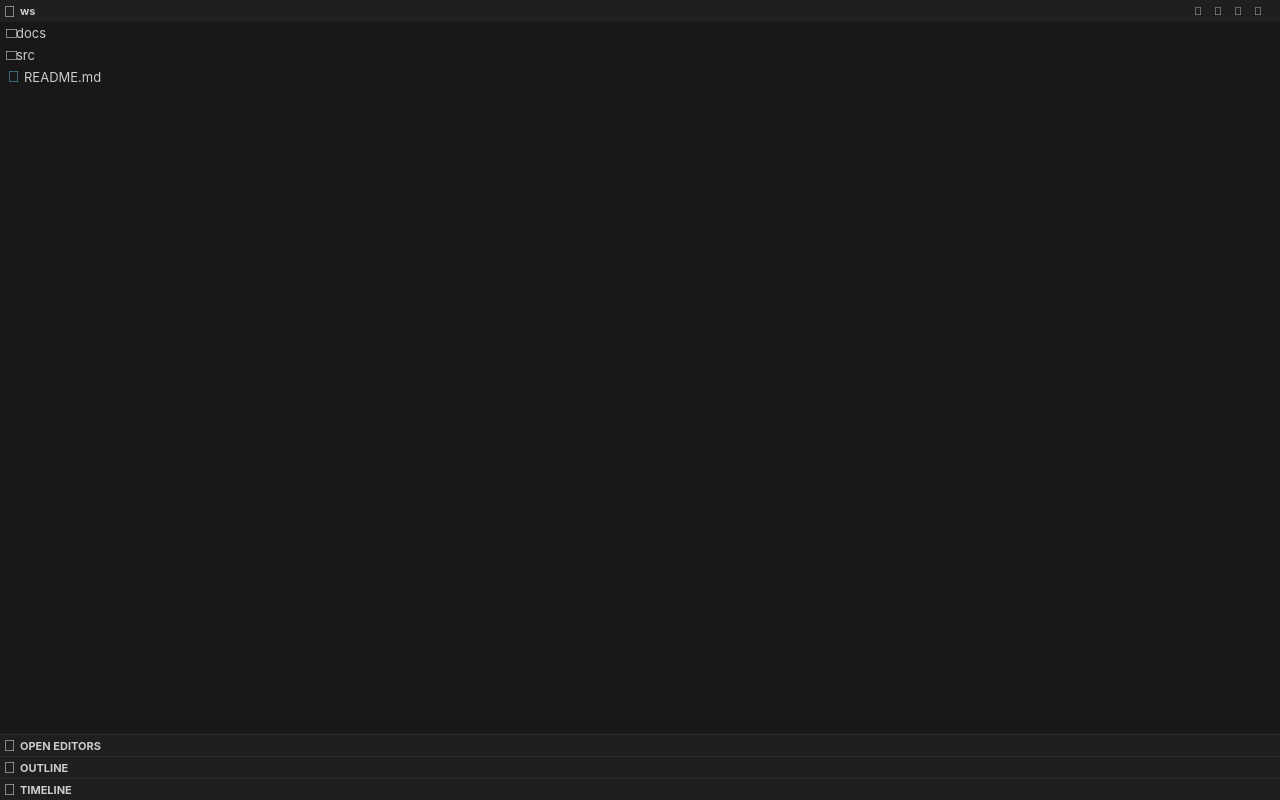
Test case: ExplorerView — seções (A2.4) + overflow (A1.5) › Open Editors: OCULTA por padrão (VS Code, c5); após explorer.views.toggle.openEditors é um pane colapsado que lista os arquivos abertos (A2.4)
The image size is (1280, 800).
Click the text "README.md" at (63, 77), box [24,69,101,85]
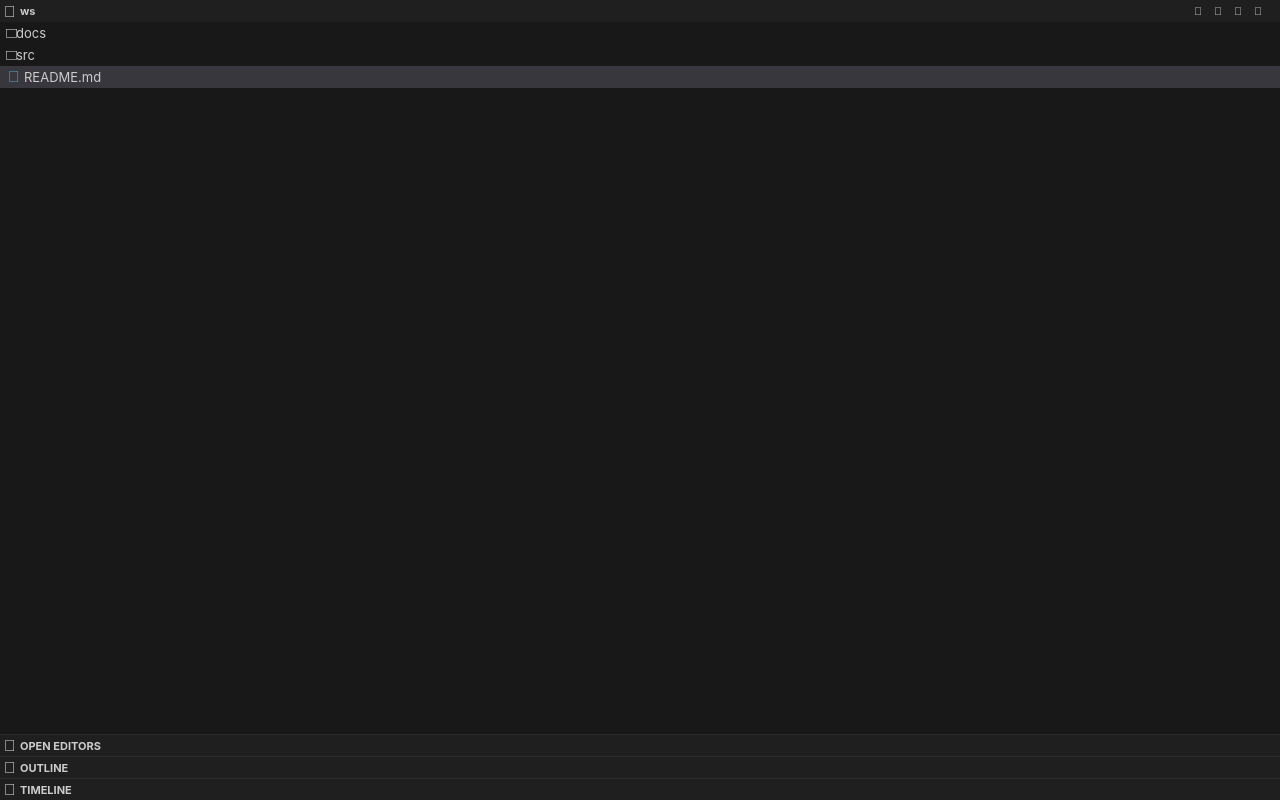
Click the button with aria-label "Open Editors Section" at (60, 746), box [0,734,1279,756]
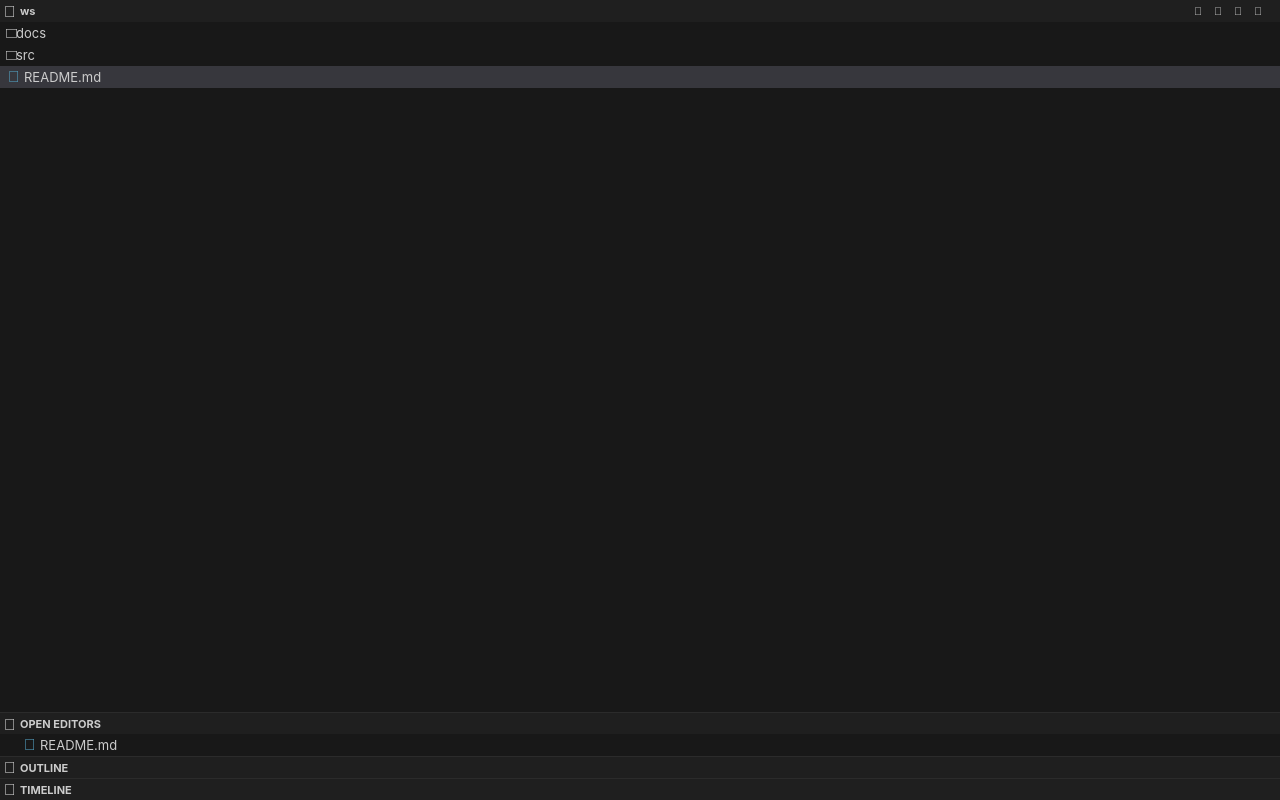
Now the button with aria-label "Open Editors Section" is expanded, box [0,712,1279,734]
Now the 2nd link "README.md" is shown, box [40,737,117,753]
